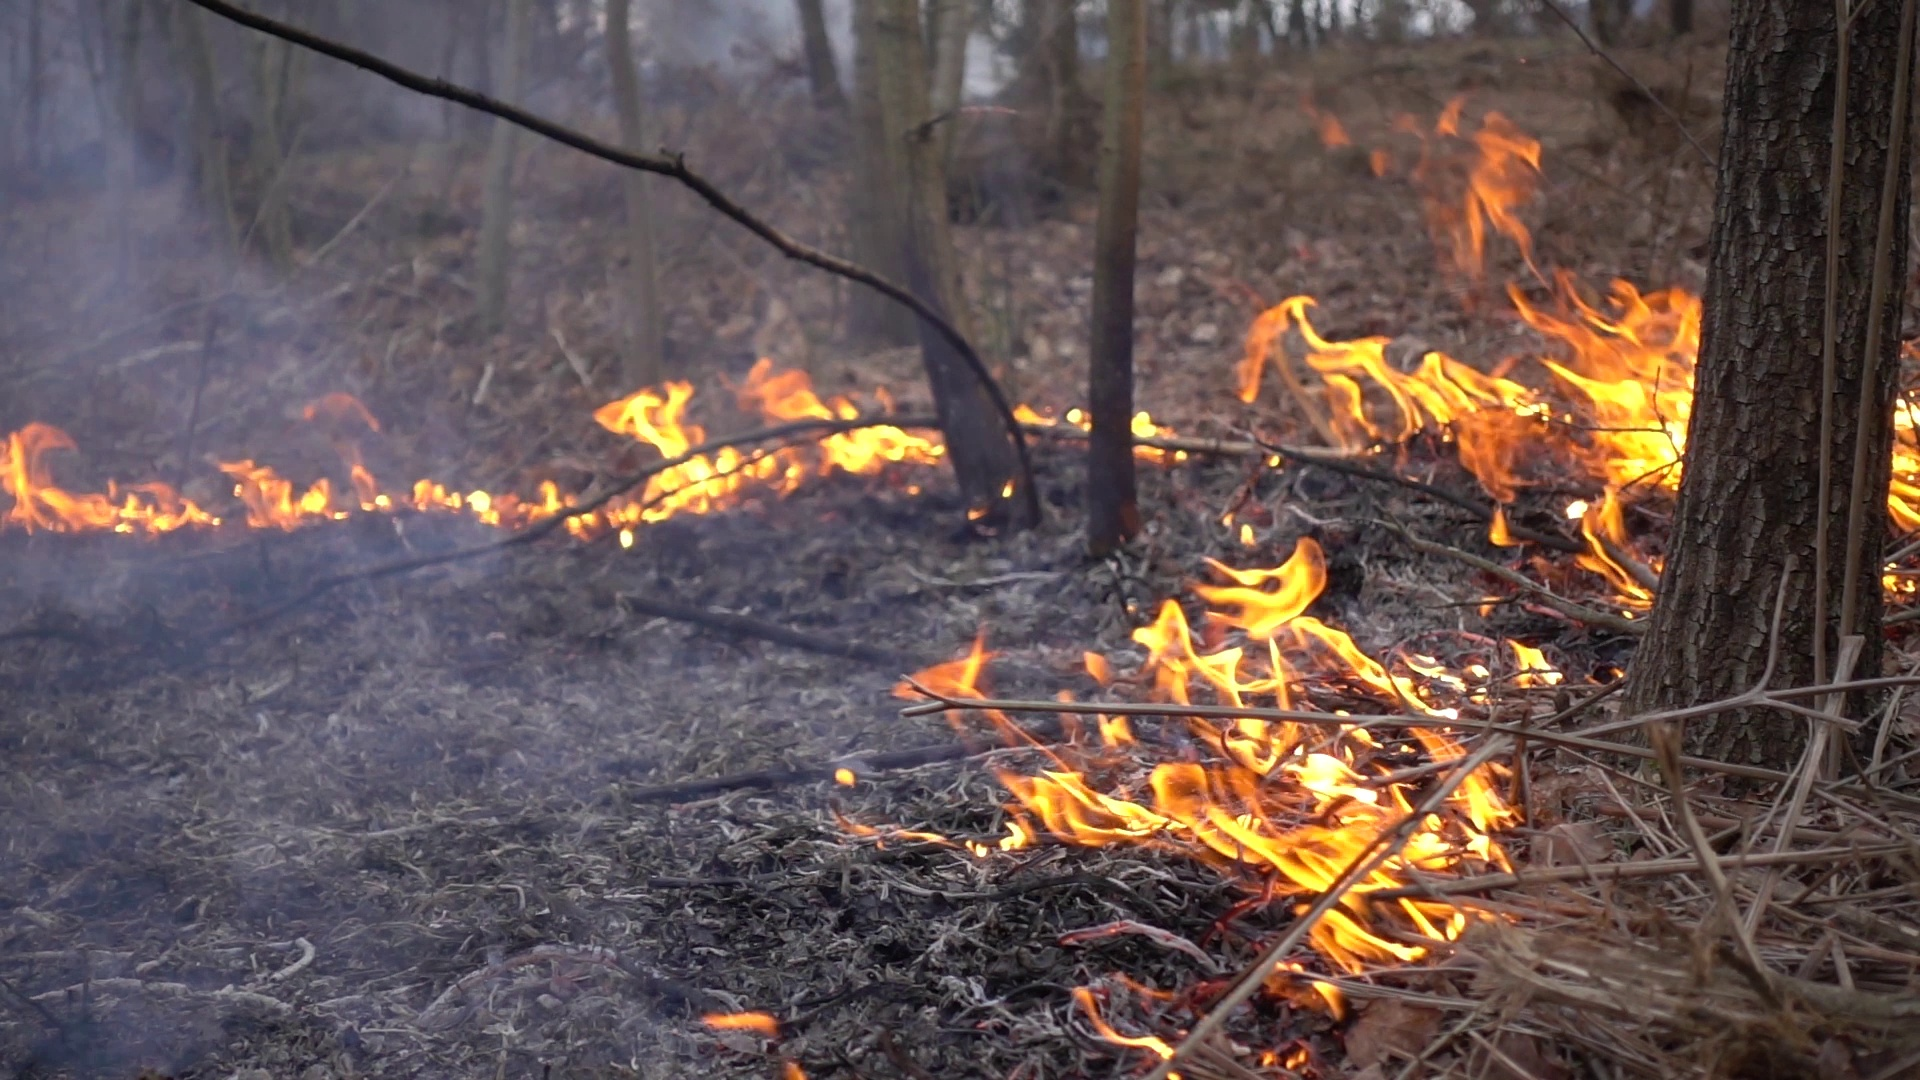fire: (934, 567, 1542, 981), (1247, 131, 1702, 502), (593, 384, 757, 527), (754, 359, 938, 481), (1, 429, 202, 538), (225, 464, 331, 527), (410, 477, 502, 525), (1891, 402, 1920, 518), (1127, 407, 1156, 443)
